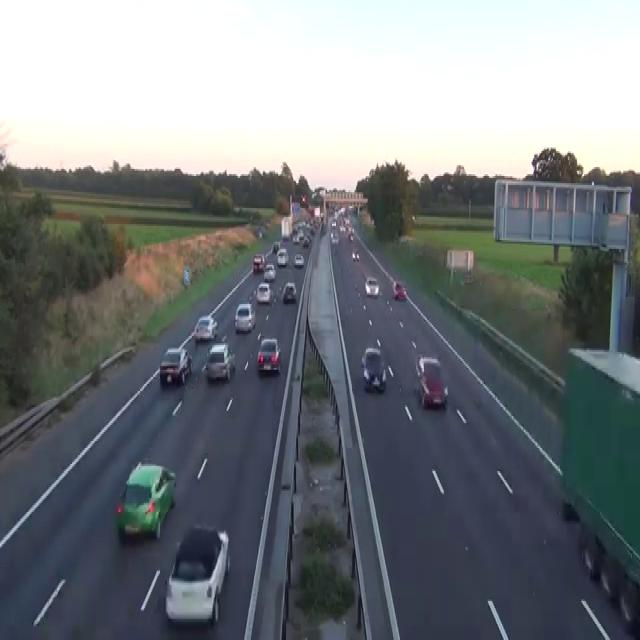Car: (164, 522, 230, 626), (580, 530, 639, 624), (115, 460, 176, 540), (414, 355, 448, 409), (159, 346, 193, 386), (203, 342, 235, 381), (361, 347, 386, 393), (330, 204, 354, 246), (256, 338, 281, 372), (234, 302, 256, 332), (194, 315, 217, 341), (414, 354, 440, 377), (361, 347, 380, 368), (256, 281, 271, 304), (364, 275, 379, 297), (392, 279, 406, 301), (282, 281, 296, 302), (252, 252, 265, 274), (414, 354, 426, 377), (276, 247, 288, 267), (263, 263, 276, 281), (293, 252, 304, 266), (462, 270, 473, 284), (183, 267, 190, 288), (330, 231, 339, 244), (399, 234, 413, 242), (272, 240, 281, 252), (302, 235, 310, 247), (351, 249, 359, 261), (292, 233, 300, 243), (348, 229, 354, 242), (233, 204, 240, 213), (338, 206, 345, 215), (300, 194, 306, 204), (257, 228, 262, 238), (331, 218, 336, 228), (282, 233, 289, 240), (351, 250, 355, 260), (355, 252, 359, 262), (348, 204, 353, 210)
Truck: (559, 345, 639, 626)
